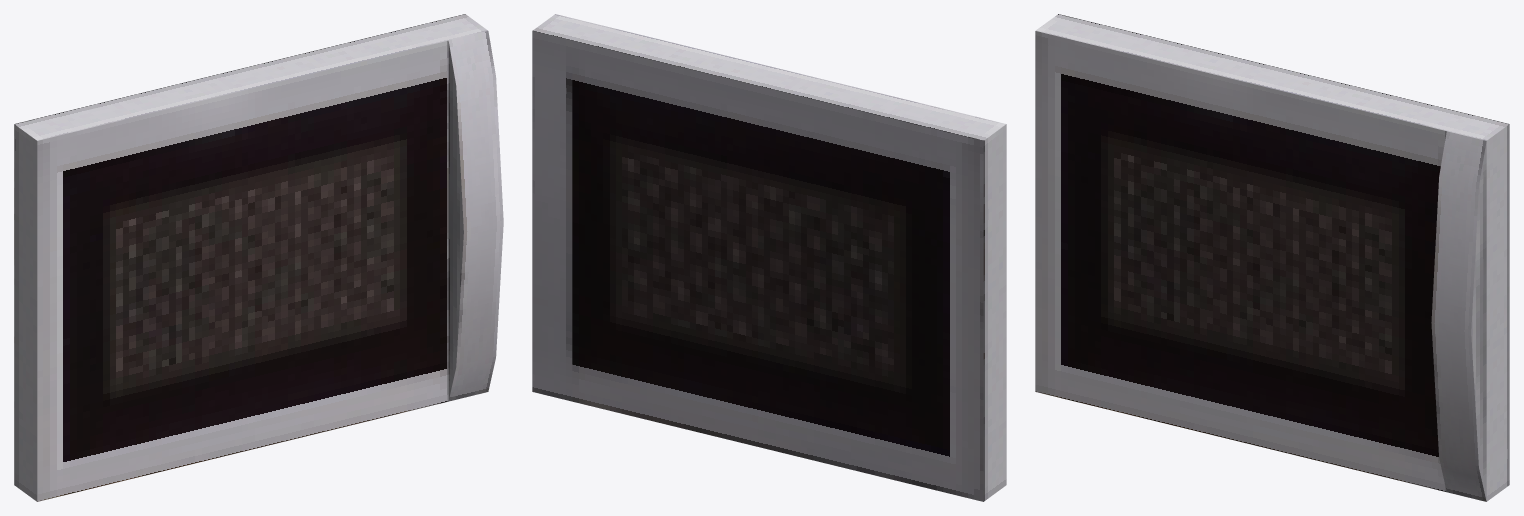
The model's file is Microwave002.glb.
3 views of the same model, side by side, from view 1: azimuth 30°, elevation 25°; view 2: azimuth 150°, elevation 25°; view 3: azimuth 330°, elevation 25° (orthographic).
Visible parts, largest first — view 1: microwave.002; view 2: microwave.002; view 3: microwave.002.
Boxes of the visible parts, x1,y1,x2,y2 form: microwave.002: (14, 14, 503, 501); microwave.002: (532, 14, 1006, 501); microwave.002: (1035, 14, 1509, 501).
Size of the model in its own units: 0.34 by 0.26 by 0.05.
Materials: 1 (1 with a texture image).
